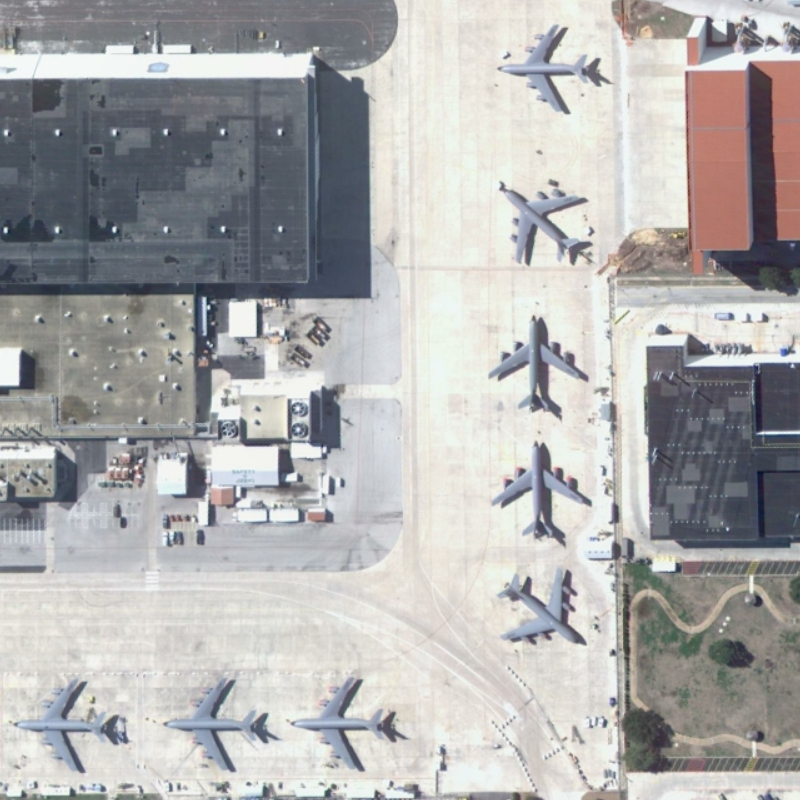A14: (285, 666, 399, 778), (10, 666, 119, 778), (491, 20, 610, 120), (482, 308, 588, 417), (158, 670, 264, 779), (485, 434, 593, 540), (491, 174, 601, 272), (492, 561, 593, 653)
